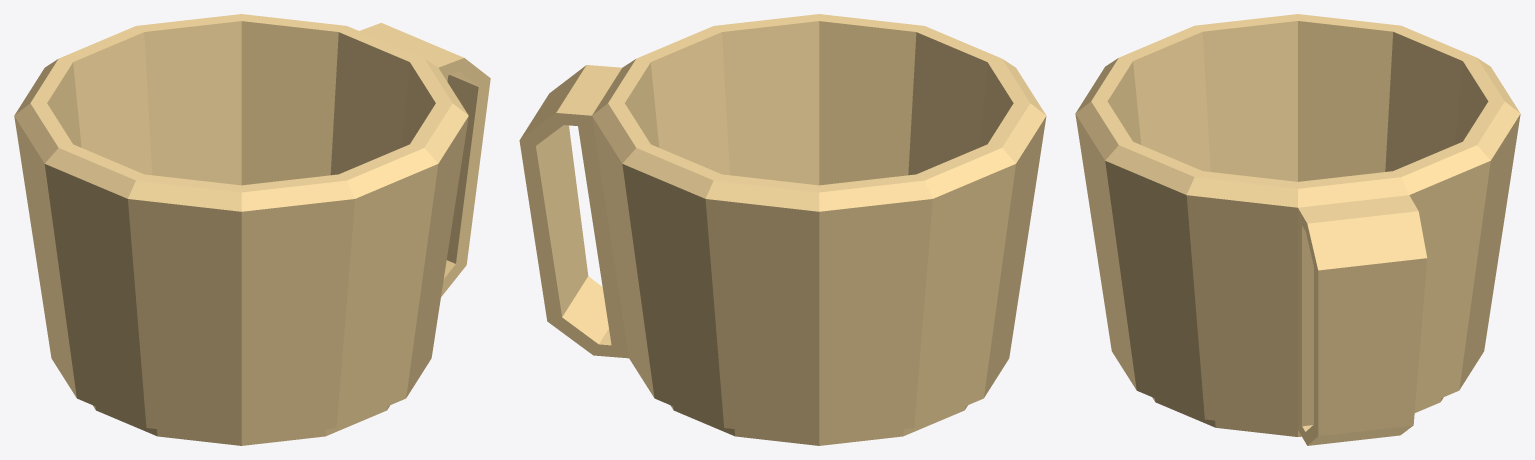
File: Cup.fbx
3 renders of one model, left to right at view 1: azimuth 30°, elevation 25°; view 2: azimuth 150°, elevation 25°; view 3: azimuth 270°, elevation 25°, orthographic. The views are drawn at different scales.
Visible parts, largest first — view 1: Cylinder; view 2: Cylinder; view 3: Cylinder.
Part boxes in pixels (<box>): Cylinder: <box>14,14,490,445</box>; Cylinder: <box>519,14,1046,445</box>; Cylinder: <box>1075,14,1520,445</box>.
Bounding box in the file's own units: 68.77 × 39.12 × 59.32.
